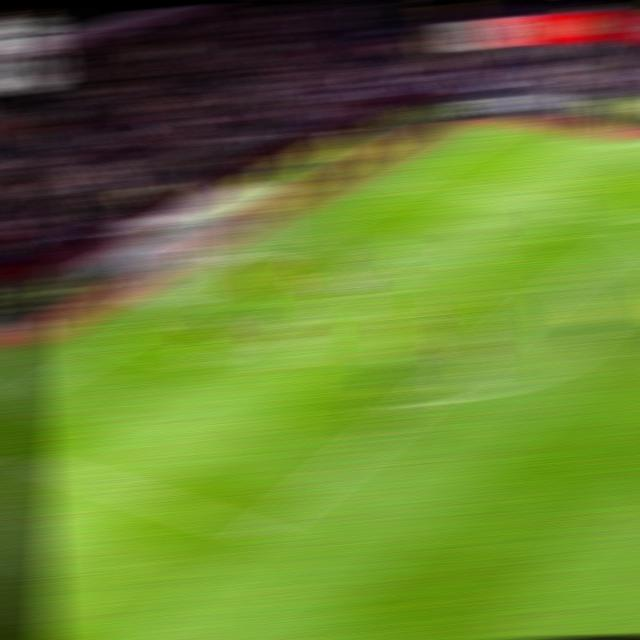bigarea_bottom_inner: (237, 520, 281, 548)
bigarea_top_outter: (390, 176, 424, 186)
bottom_arc_area_intersection: (398, 397, 436, 412)
corner: (485, 124, 521, 132)
smallarea_bottom_inner: (186, 357, 226, 373)
smallarea_bottom_outter: (101, 334, 140, 350)
smallarea_top_inner: (373, 243, 408, 254)
smallarea_top_outter: (301, 227, 338, 239)
top_arc_area_intersection: (538, 288, 572, 301)
